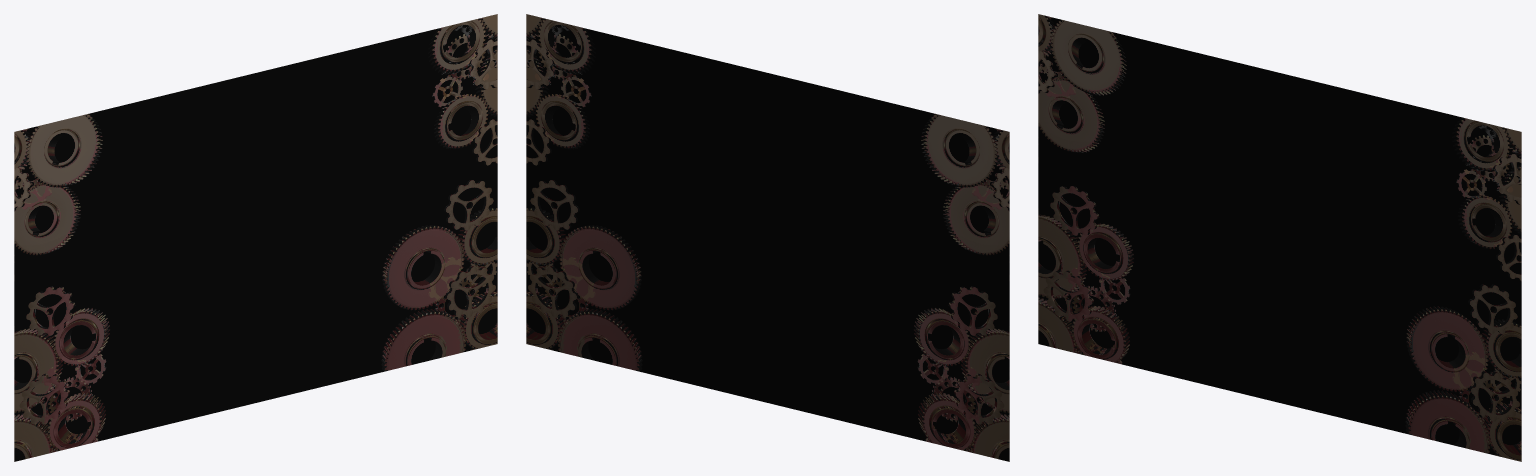
File: kinko_layer_C.fbx
3 views of the same model, side by side, from view 1: azimuth 30°, elevation 25°; view 2: azimuth 150°, elevation 25°; view 3: azimuth 330°, elevation 25° (orthographic).
Parts seen in each view (by area): view 1: kinko_layer_C; view 2: kinko_layer_C; view 3: kinko_layer_C.
Part boxes in pixels (<box>): kinko_layer_C: <box>14,14,497,461</box>; kinko_layer_C: <box>526,14,1009,461</box>; kinko_layer_C: <box>1038,14,1521,461</box>.
Bounding box in the file's own units: 95 × 62 × 0.
1 material, 1 textured.
